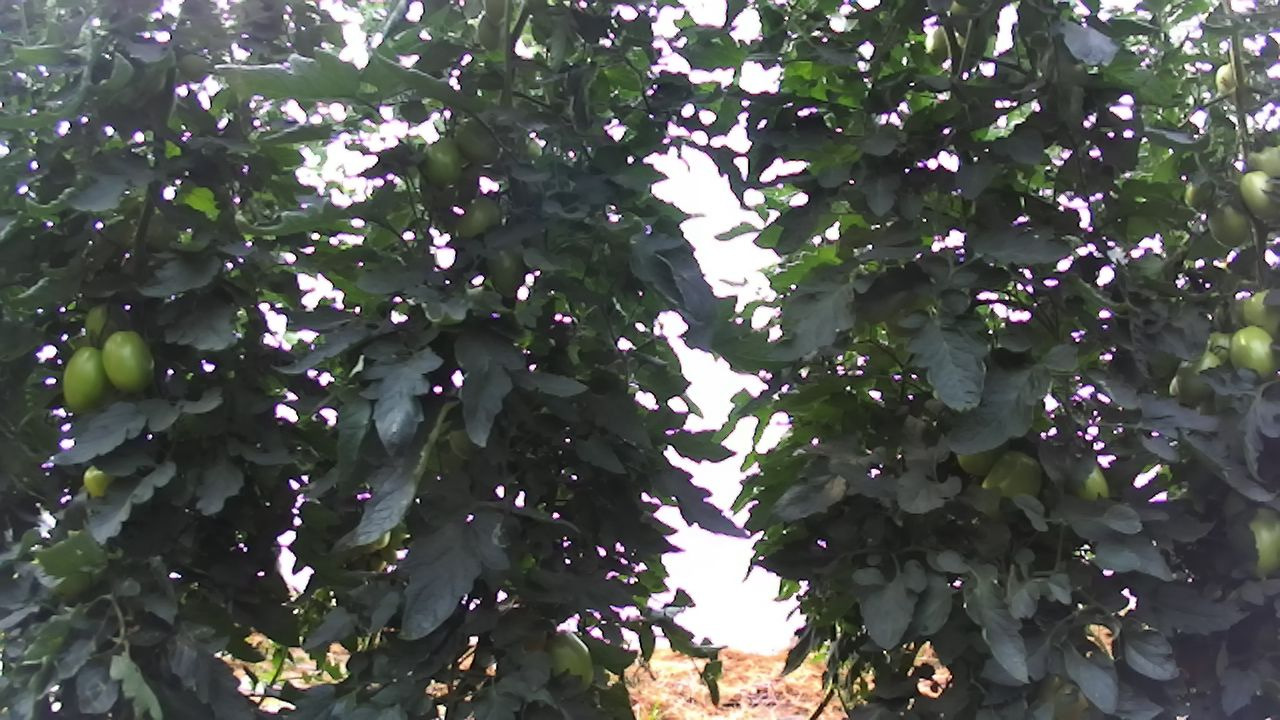tomato: (535, 625, 597, 703), (98, 326, 158, 398), (974, 447, 1048, 502), (60, 341, 108, 419), (1224, 320, 1280, 381), (1232, 163, 1280, 231), (450, 195, 505, 247), (417, 132, 467, 189), (1203, 197, 1251, 250), (453, 113, 500, 167)
